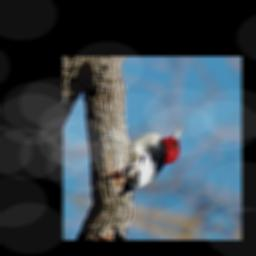Woodpecker: (116, 105, 185, 205)
